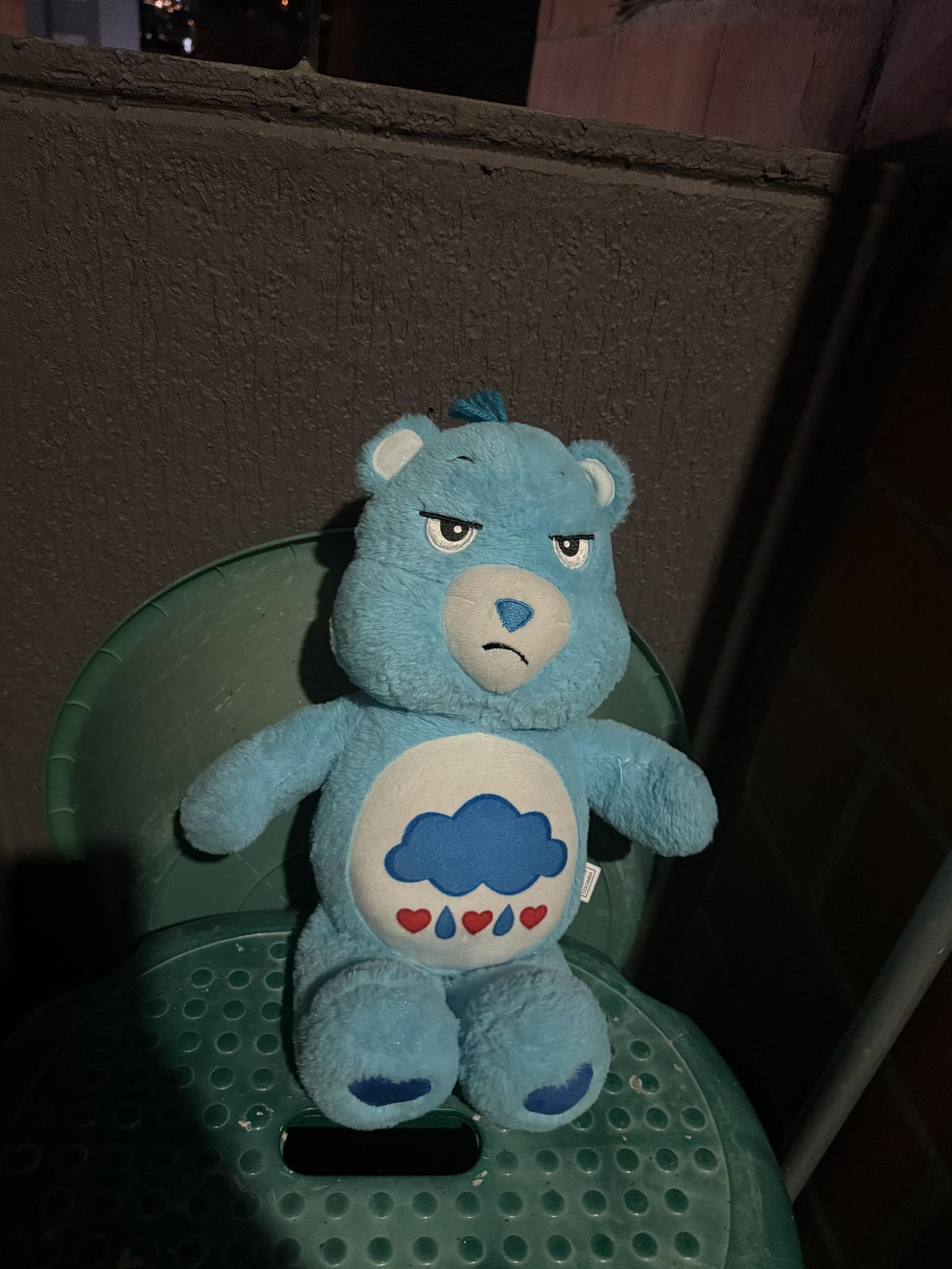peluche_Juan Jose: (167, 402, 722, 1140)
